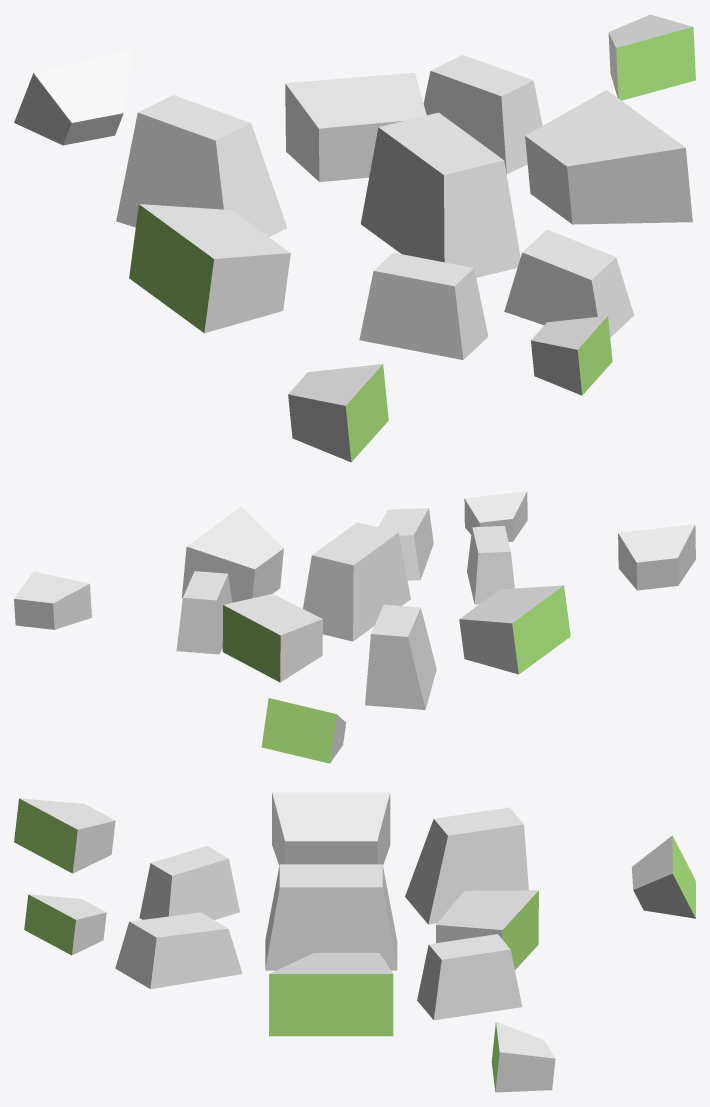
File: onion06.obj
3 renders of one model, top to bottom at view 1: azimuth 30°, elevation 25°; view 2: azimuth 150°, elevation 25°; view 3: azimuth 270°, elevation 25°, orthographic. The views are drawn at different scales.
Visible parts, largest first — view 1: Cube.011; view 2: Cube.011; view 3: Cube.011.
Part boxes in pixels (x1=…): Cube.011: x1=14, y1=14, x2=695, y2=462; Cube.011: x1=14, y1=491, x2=695, y2=763; Cube.011: x1=14, y1=792, x2=695, y2=1092.
Bounding box in the file's own units: 0.0348 × 0.00531 × 0.039.
Materials: 1 (1 with a texture image).
